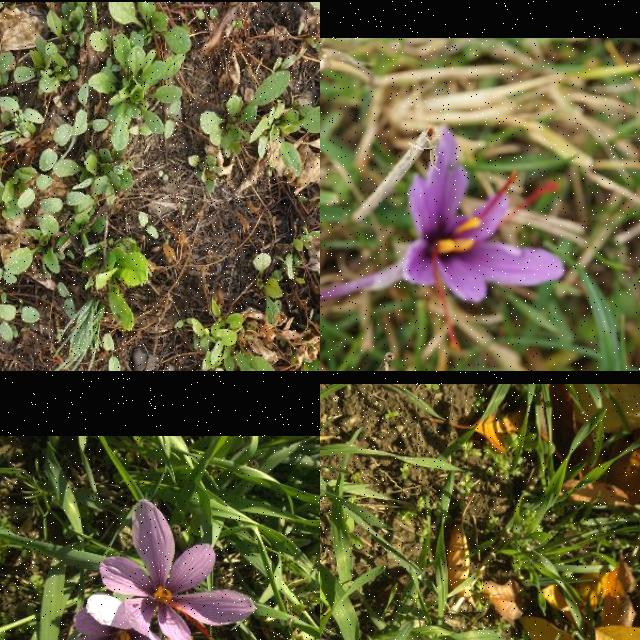flower: (403, 127, 565, 356), (100, 501, 254, 640), (43, 608, 181, 640)
